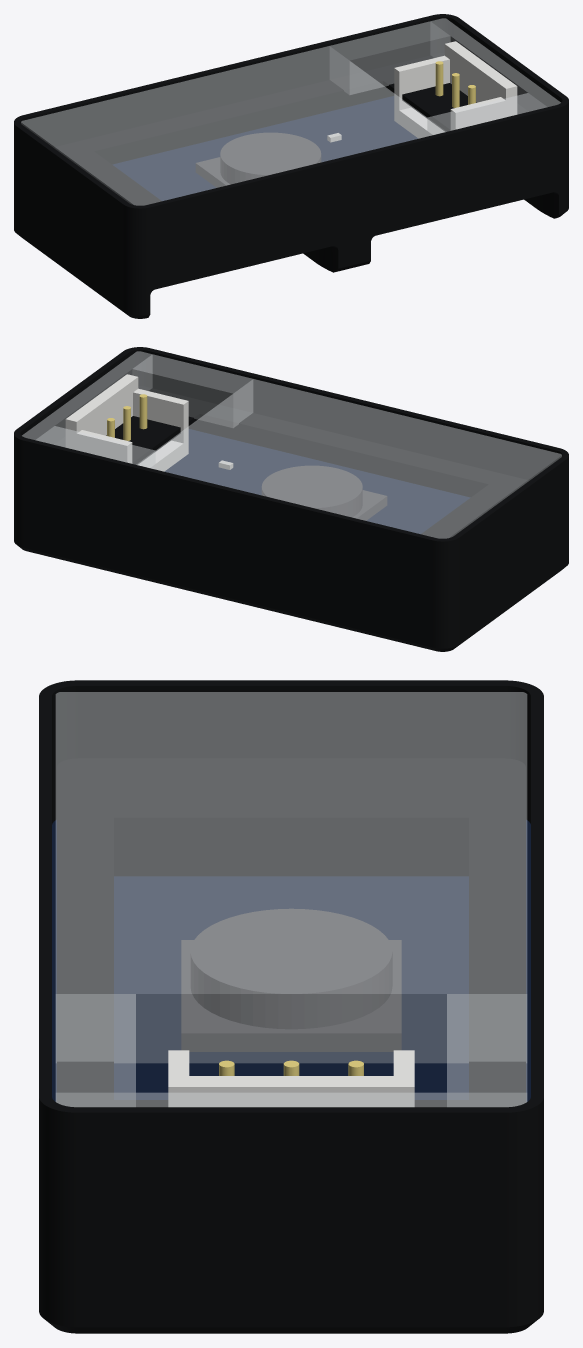
The model's file is robot-arm.glb.
3 renders of one model, top to bottom at view 1: azimuth 30°, elevation 25°; view 2: azimuth 150°, elevation 25°; view 3: azimuth 270°, elevation 25°, orthographic. The views are drawn at different scales.
Visible parts, largest first — view 1: black, glass, pcb, derived_capacitor, derived_servo_connector_back, derived_servo_connector_side_b, derived_servo_connector_side_a, derived_servo_connector_base, derived_capacitor_base; view 2: black, glass, pcb, derived_capacitor, derived_servo_connector_back, derived_servo_connector_side_a, derived_servo_connector_side_b, derived_servo_connector_base, derived_capacitor_base; view 3: black, glass, pcb, derived_capacitor, derived_capacitor_base, derived_servo_connector_back.
Part boxes in pixels (x1,y1,x2,y2): black: (14, 14, 568, 318); glass: (21, 18, 560, 205); pcb: (112, 96, 417, 200); derived_capacitor: (220, 132, 321, 184); derived_servo_connector_back: (444, 41, 517, 117); derived_servo_connector_side_b: (394, 55, 449, 110); derived_servo_connector_side_a: (450, 97, 505, 130); derived_servo_connector_base: (394, 107, 444, 138); derived_capacitor_base: (195, 157, 229, 187); black: (14, 347, 568, 651); glass: (22, 351, 561, 538); pcb: (165, 429, 470, 533); derived_capacitor: (261, 465, 362, 517); derived_servo_connector_back: (65, 374, 138, 449); derived_servo_connector_side_a: (133, 388, 188, 456); derived_servo_connector_side_b: (76, 430, 132, 463); derived_servo_connector_base: (138, 440, 188, 471); derived_capacitor_base: (353, 490, 387, 520); black: (39, 680, 543, 1333); glass: (55, 692, 527, 1107); pcb: (52, 820, 530, 1102); derived_capacitor: (190, 908, 392, 1029); derived_capacitor_base: (181, 940, 401, 1051); derived_servo_connector_back: (168, 1076, 414, 1107).
Size of the model in its own units: 0.0395 by 0.00964 by 0.0195.
